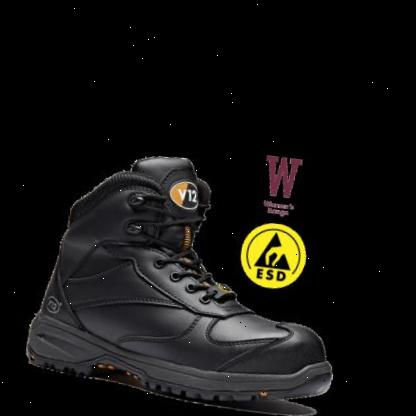bota: (20, 132, 358, 416)
